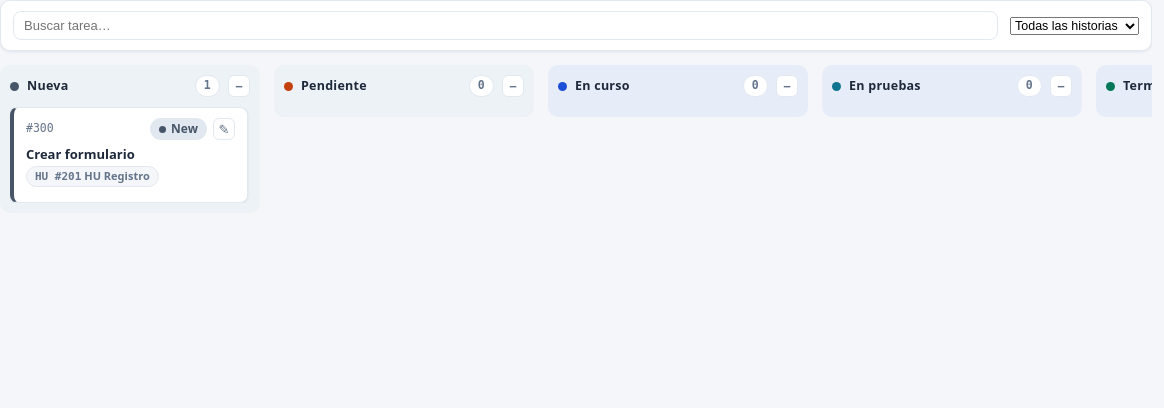
Edición QA de tareas › explica el modo solo lectura
This screenshot has width=1164, height=408.
Click the button named "editar tarea #300 (QA)" at (224, 129), box x1=213 y1=118 x2=235 y2=140
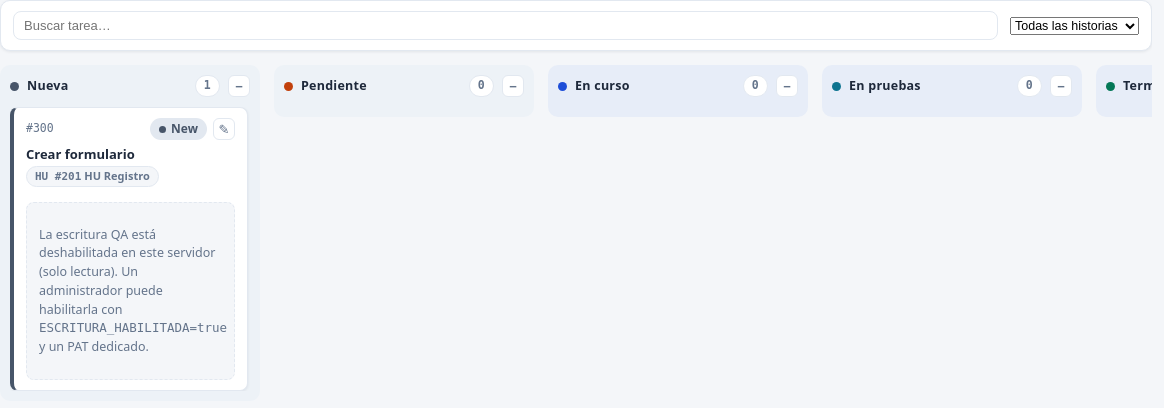
Check: the text "solo lectura" is shown, box x1=39 y1=226 x2=215 y2=318
